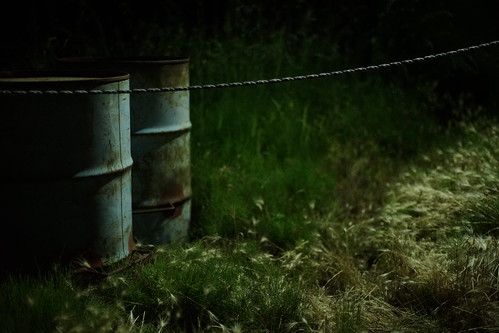barrel: (1, 57, 134, 264), (94, 44, 204, 239)
grass: (197, 1, 499, 322)
